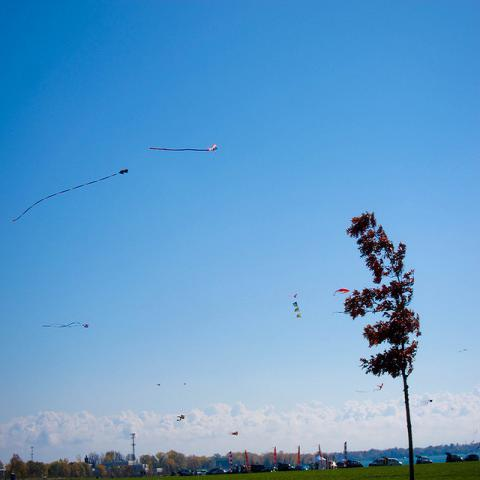car: (415, 455, 433, 464), (446, 455, 464, 463), (276, 463, 294, 470), (464, 454, 479, 462), (388, 458, 403, 466), (294, 464, 310, 471), (369, 460, 385, 466), (208, 467, 219, 475), (347, 462, 364, 467), (335, 461, 344, 469), (212, 469, 225, 474), (261, 467, 274, 472), (197, 470, 208, 475)
